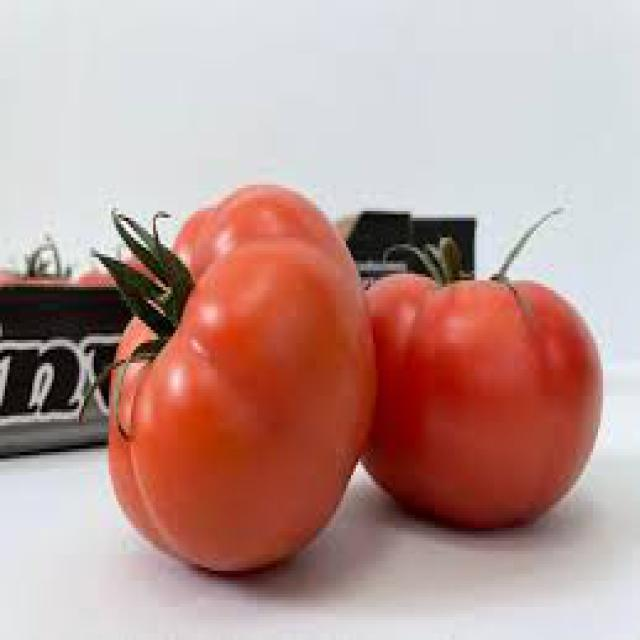tomato: (96, 185, 378, 577), (364, 274, 606, 531)
